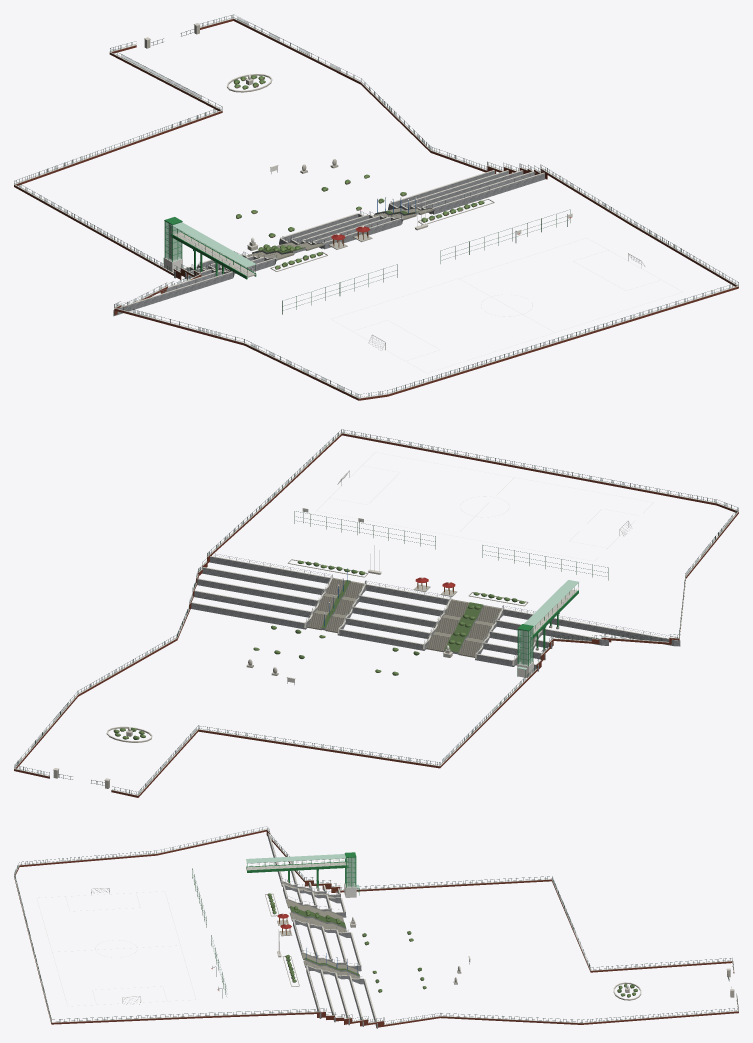
3 views of the same model, one above another, from view 1: azimuth 30°, elevation 25°; view 2: azimuth 150°, elevation 25°; view 3: azimuth 270°, elevation 25° (orthographic). The views are drawn at different scales.
Visible parts, largest first — view 1: prop_boundary-fence, prop_terrace-retaining-walls, prop_skybridge, prop_flowerbeds, prop_terrace-railings, prop_elevator-tower, prop_backstop-fence; view 2: prop_terrace-retaining-walls, prop_boundary-fence, prop_skybridge, prop_flowerbeds, prop_central-grand-stairs__stair-central-east, prop_central-grand-stairs__stair-central-west, prop_elevator-tower, prop_central-grand-stairs__median-central, prop_terrace-railings, prop_terrace-side-stairs__stair-east-east, prop_terrace-side-stairs__stair-east-west, prop_backstop-fence; view 3: prop_boundary-fence, prop_terrace-retaining-walls, prop_skybridge, prop_flowerbeds, prop_elevator-tower, prop_terrace-railings, prop_central-grand-stairs__median-central, prop_field-lines.
Part boxes in pixels (box(x1,y1,x2,y2)): prop_boundary-fence: box(14, 14, 738, 400); prop_terrace-retaining-walls: box(113, 170, 545, 316); prop_skybridge: box(170, 222, 256, 279); prop_flowerbeds: box(236, 159, 494, 271); prop_terrace-railings: box(115, 169, 545, 306); prop_elevator-tower: box(163, 217, 182, 272); prop_backstop-fence: box(282, 209, 570, 314); prop_terrace-retaining-walls: box(191, 556, 680, 671); prop_boundary-fence: box(14, 429, 738, 797); prop_skybridge: box(524, 580, 578, 651); prop_flowerbeds: box(246, 559, 528, 684); prop_central-grand-stairs__stair-central-east: box(426, 599, 469, 652); prop_central-grand-stairs__stair-central-west: box(458, 605, 501, 657); prop_elevator-tower: box(517, 624, 533, 677); prop_central-grand-stairs__median-central: box(444, 602, 483, 654); prop_terrace-railings: box(211, 553, 677, 658); prop_terrace-side-stairs__stair-east-east: box(307, 578, 345, 630); prop_terrace-side-stairs__stair-east-west: box(325, 581, 363, 633); prop_backstop-fence: box(294, 511, 608, 580); prop_boundary-fence: box(14, 826, 738, 1027); prop_terrace-retaining-walls: box(267, 832, 377, 1028); prop_skybridge: box(246, 854, 348, 890); prop_flowerbeds: box(265, 893, 470, 992); prop_elevator-tower: box(344, 852, 359, 897); prop_terrace-railings: box(268, 829, 361, 1013); prop_central-grand-stairs__median-central: box(290, 906, 346, 928); prop_field-lines: box(36, 891, 195, 1006).
Size of the model in its own units: 142 by 15.25 by 224.
27 materials, 2 textured.
